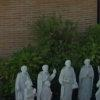Statue: (6, 51, 91, 100)
